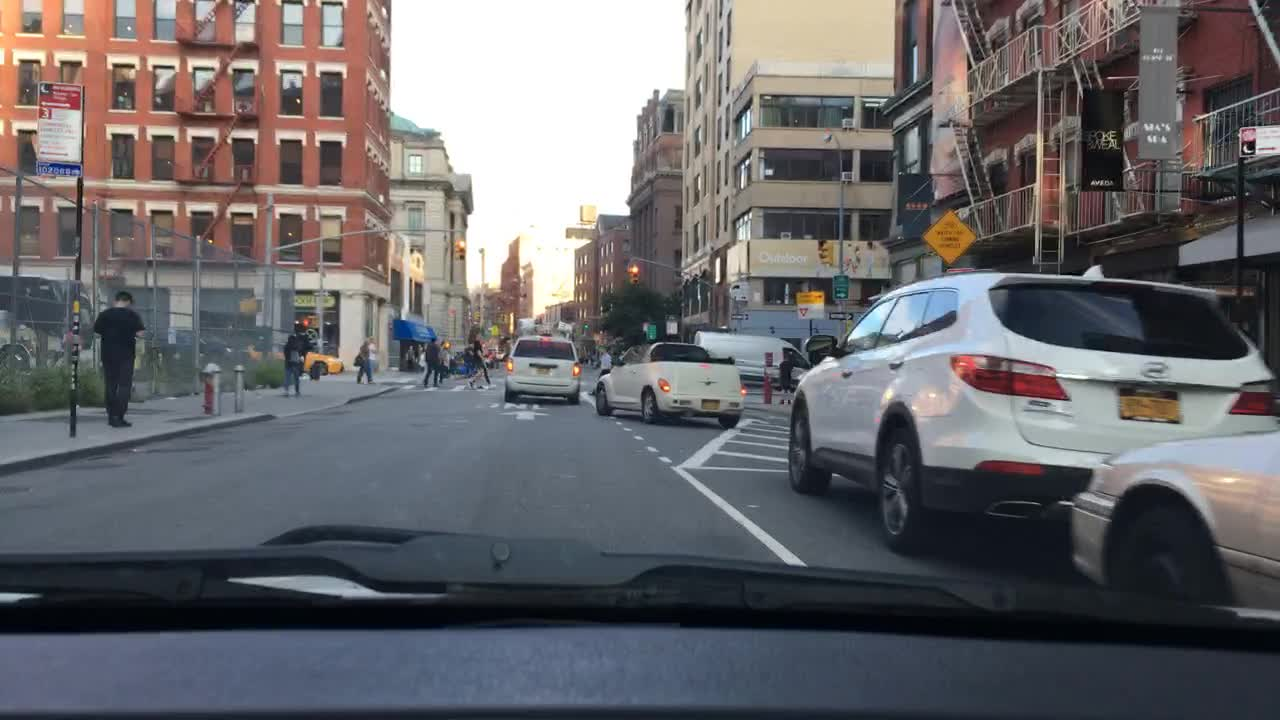car: (785, 263, 1277, 553), (1066, 430, 1278, 609), (594, 339, 744, 425), (1, 272, 95, 389), (145, 329, 286, 392), (693, 329, 810, 388), (503, 333, 580, 404), (248, 346, 344, 378), (495, 349, 508, 361)
person: (92, 287, 146, 426), (467, 332, 494, 388), (282, 332, 305, 396), (353, 336, 372, 382), (777, 354, 793, 404), (597, 342, 612, 376), (366, 337, 379, 375), (438, 339, 449, 375), (462, 341, 473, 375), (404, 343, 415, 370), (415, 343, 425, 370)
traffic light: (458, 240, 465, 258), (632, 263, 638, 282), (627, 265, 632, 283), (472, 309, 480, 319), (453, 241, 458, 256), (498, 314, 507, 322)
traffic sign: (919, 207, 977, 266), (36, 108, 82, 163), (1237, 125, 1278, 156), (36, 81, 81, 108), (795, 290, 823, 318), (36, 162, 83, 177), (830, 275, 848, 298), (827, 311, 852, 319), (730, 282, 748, 292), (665, 319, 676, 333), (646, 324, 656, 338), (729, 312, 750, 318), (733, 293, 749, 300), (491, 324, 498, 333), (642, 320, 646, 331)
